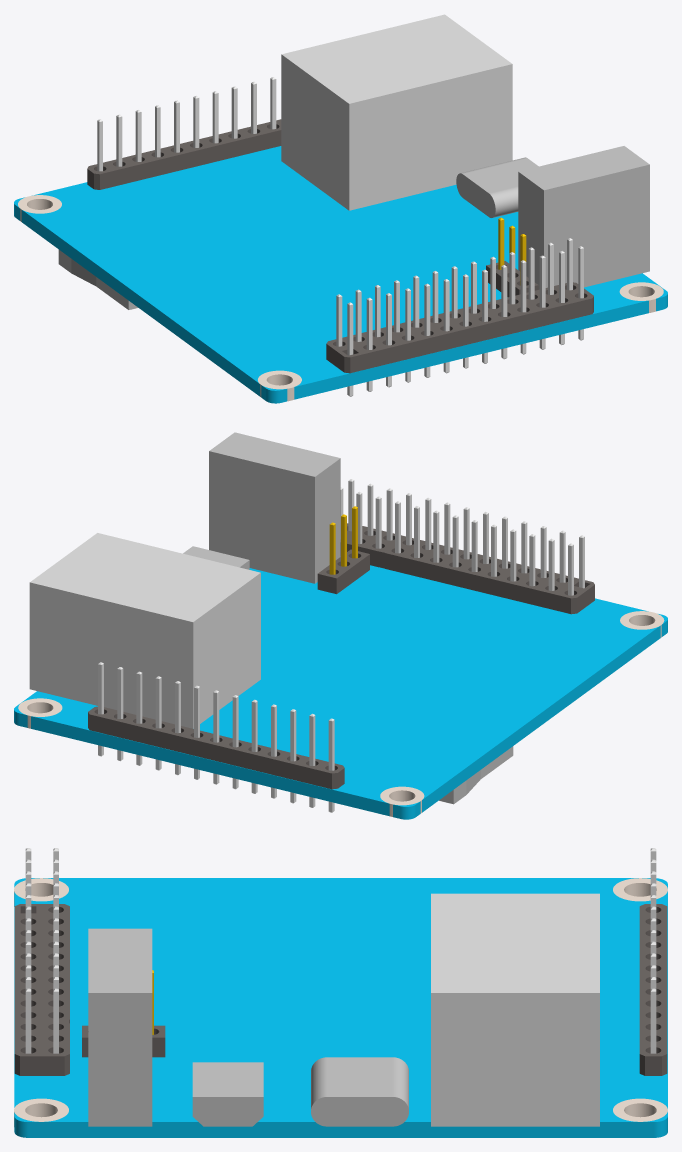
File: OrangeZero2.glb
The picture shows the model from 3 angles, top to bottom: view 1: azimuth 30°, elevation 25°; view 2: azimuth 150°, elevation 25°; view 3: azimuth 270°, elevation 25°; orthographic projection. The views are drawn at different scales.
Parts seen in each view (by area): view 1: Node2, Node4, Node5, Node6, Node1, Node3, Node7; view 2: Node2, Node4, Node5, Node6, Node1, Node3, Node7; view 3: Node2, Node4, Node5, Node6, Node1, Node3.
Part boxes in pixels (<box>): Node2: <box>14,146,667,403</box>; Node4: <box>281,14,512,210</box>; Node5: <box>58,146,649,309</box>; Node6: <box>87,119,593,373</box>; Node1: <box>97,77,583,396</box>; Node3: <box>18,195,663,401</box>; Node7: <box>498,217,526,285</box>; Node2: <box>14,565,667,819</box>; Node4: <box>29,533,260,728</box>; Node5: <box>183,432,513,804</box>; Node6: <box>88,523,594,789</box>; Node1: <box>98,479,584,812</box>; Node3: <box>18,611,664,816</box>; Node7: <box>329,506,357,574</box>; Node2: <box>14,878,667,1137</box>; Node4: <box>431,893,599,1126</box>; Node5: <box>88,928,408,1126</box>; Node6: <box>14,904,667,1075</box>; Node1: <box>25,848,656,1053</box>; Node3: <box>14,878,667,1126</box>.
Bounding box in the file's own units: 53.88 × 17.3 × 59.94.
